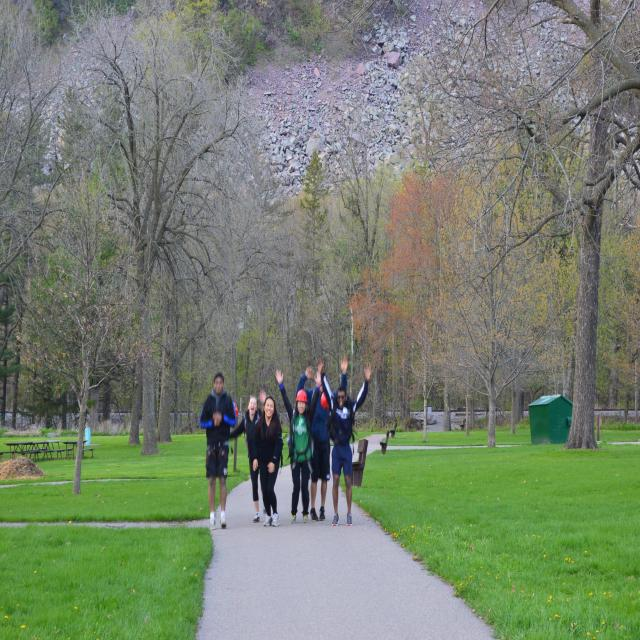body: (316, 356, 374, 528), (295, 354, 350, 523), (274, 366, 322, 525), (198, 370, 240, 532), (228, 392, 267, 524), (250, 394, 285, 529)
